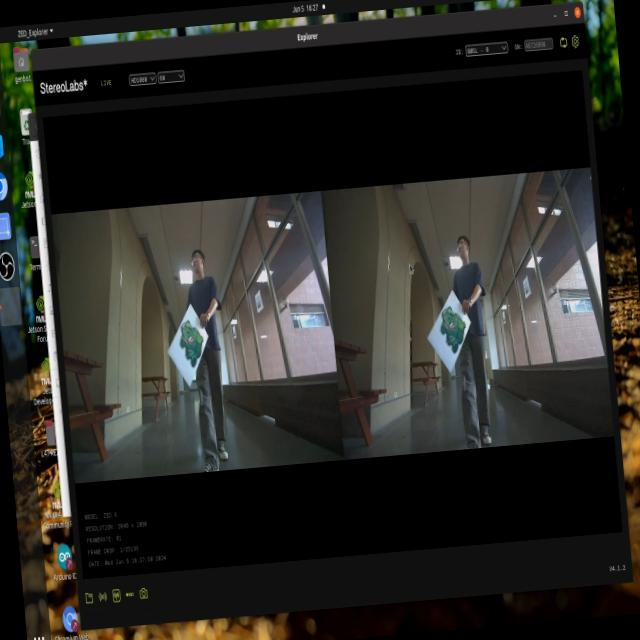green: (422, 300, 472, 362), (168, 316, 205, 374)
